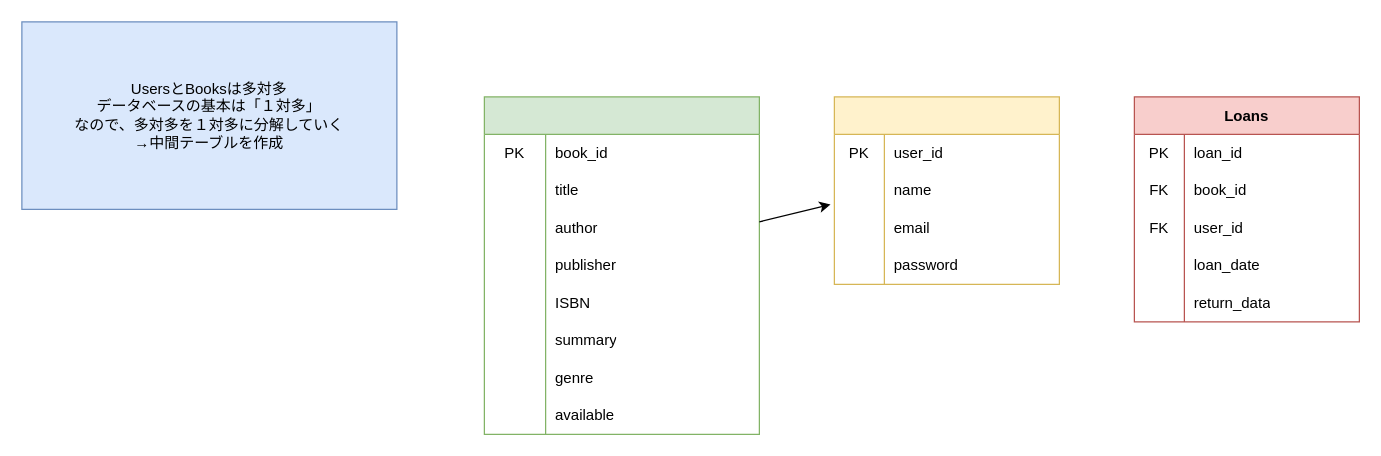
Image size: 1381x456. Some labels were removed from this diagram. Here are the shapes that lost their labels. From the top down, the box of each, then its label:
(833, 96, 1059, 284): Users
(483, 96, 759, 434): Books
